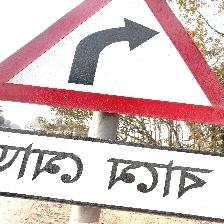Left-Turn: (1, 1, 222, 221)
